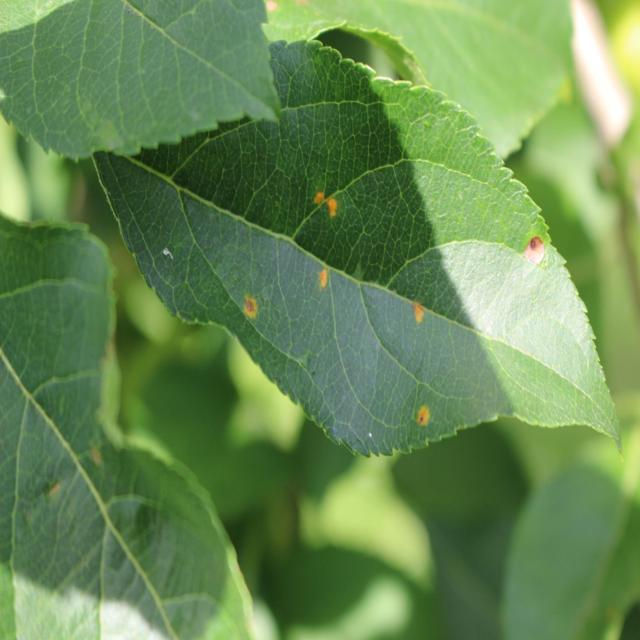Black Rot: (521, 223, 550, 273)
Rust: (309, 182, 342, 226), (236, 279, 263, 328), (410, 294, 430, 330), (313, 257, 332, 294), (415, 396, 433, 434)
